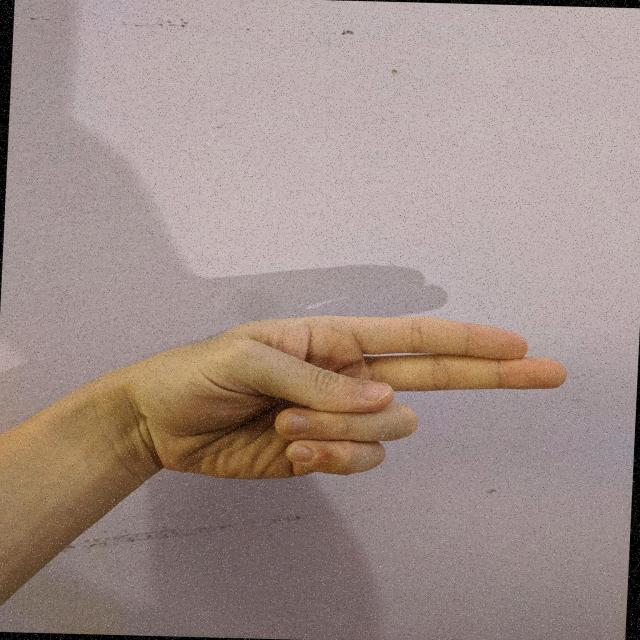H: (127, 303, 575, 495)
